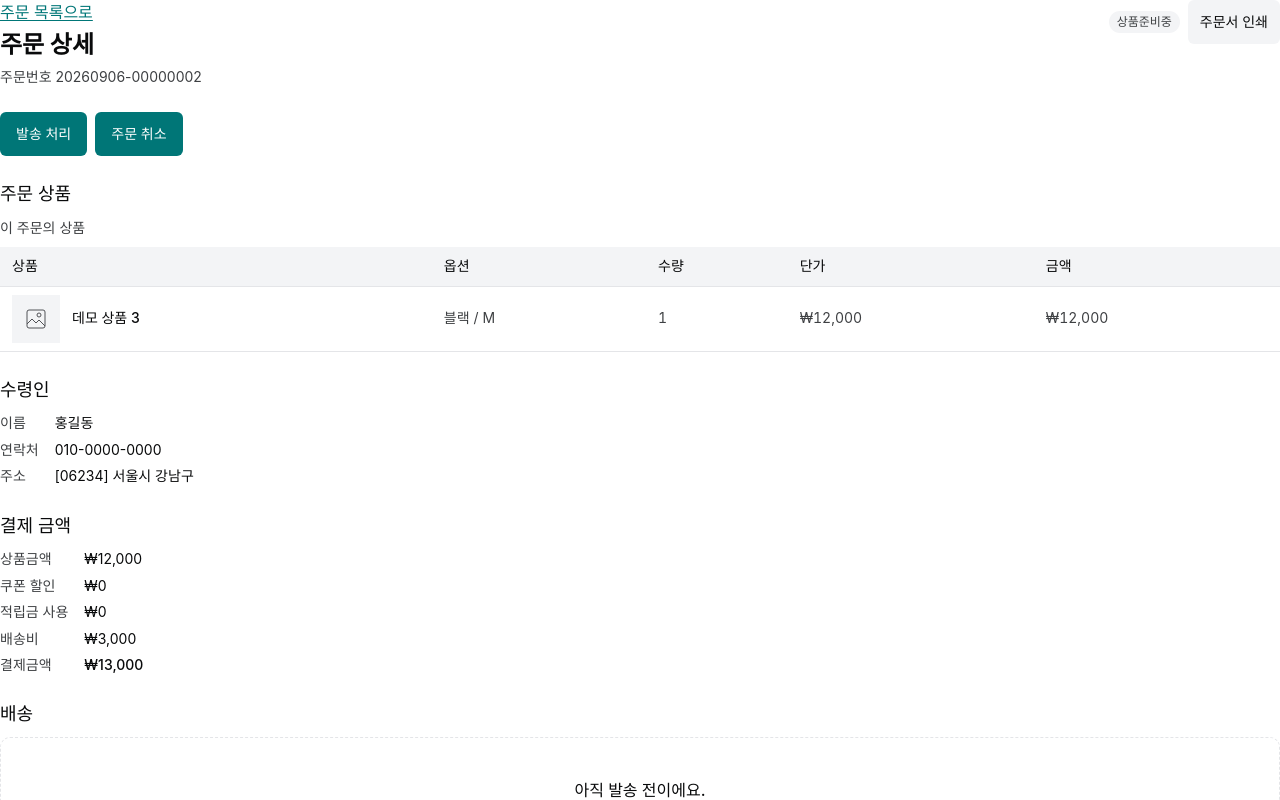
it: 발송 처리 (F3 · F10) › issues a waybill and moves the share
The width and height of the screenshot is (1280, 800).
Click the button "발송 처리" at (44, 134), box top-left (0, 112), bottom-right (87, 156)
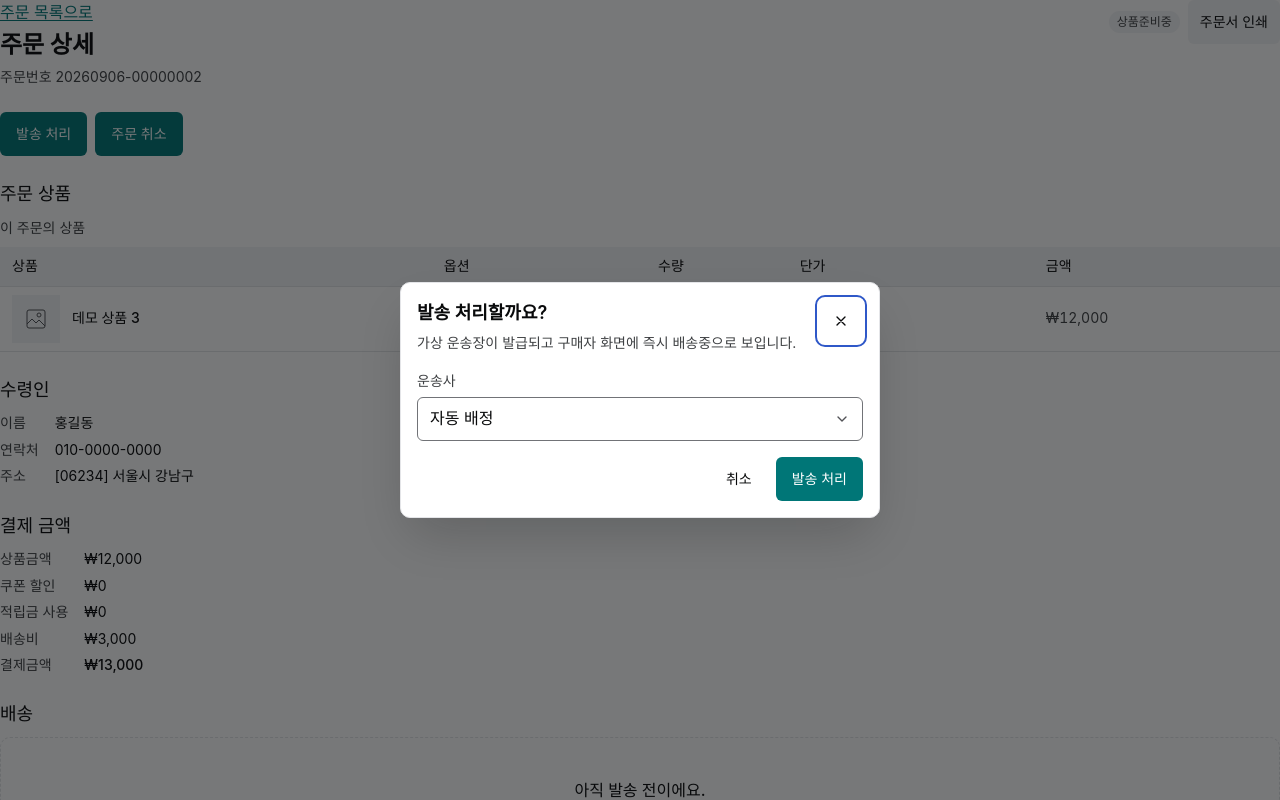
Click the button "발송 처리" at (819, 479), box top-left (776, 457), bottom-right (863, 501)
(page scrolled)
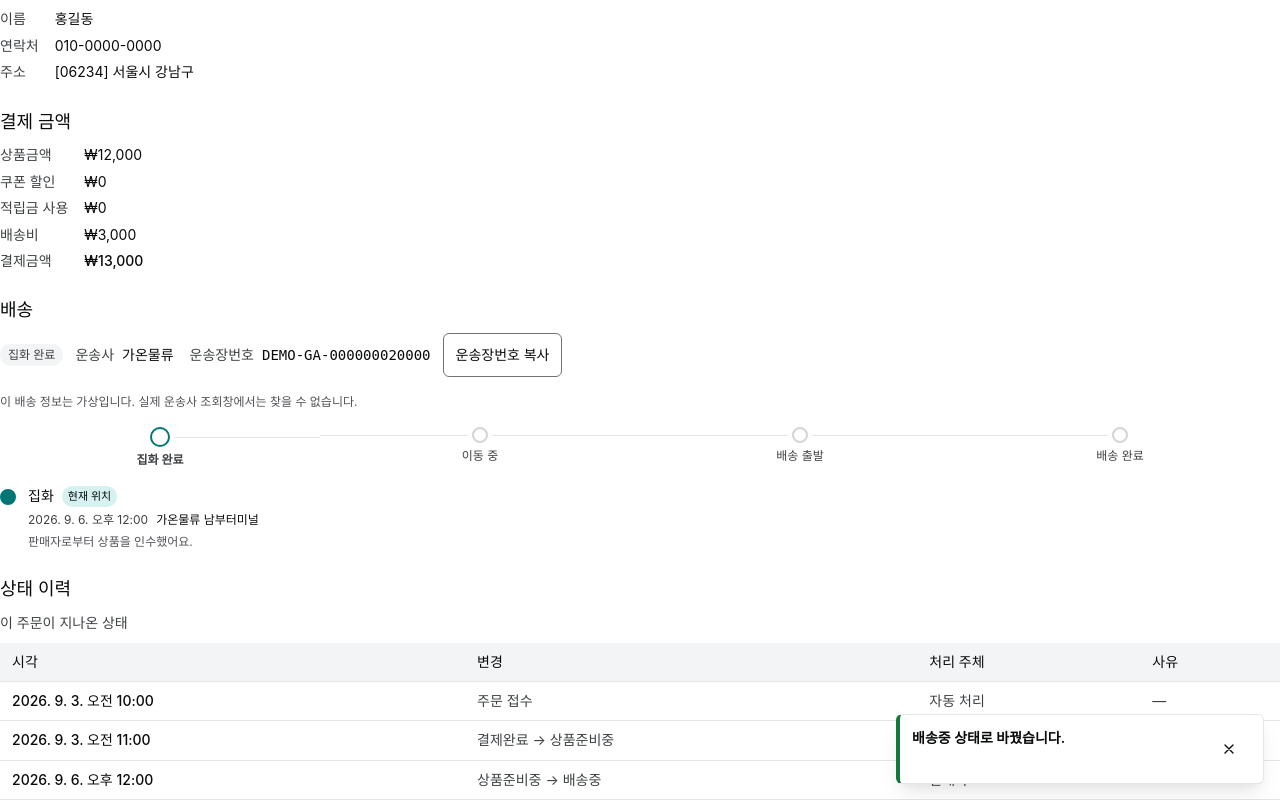
Expected: the text "이 배송 정보는 가상입니다. 실제 운송사 조회창에서는 찾을 수 없습니다." is shown, top-left (0, 394), bottom-right (358, 409)
